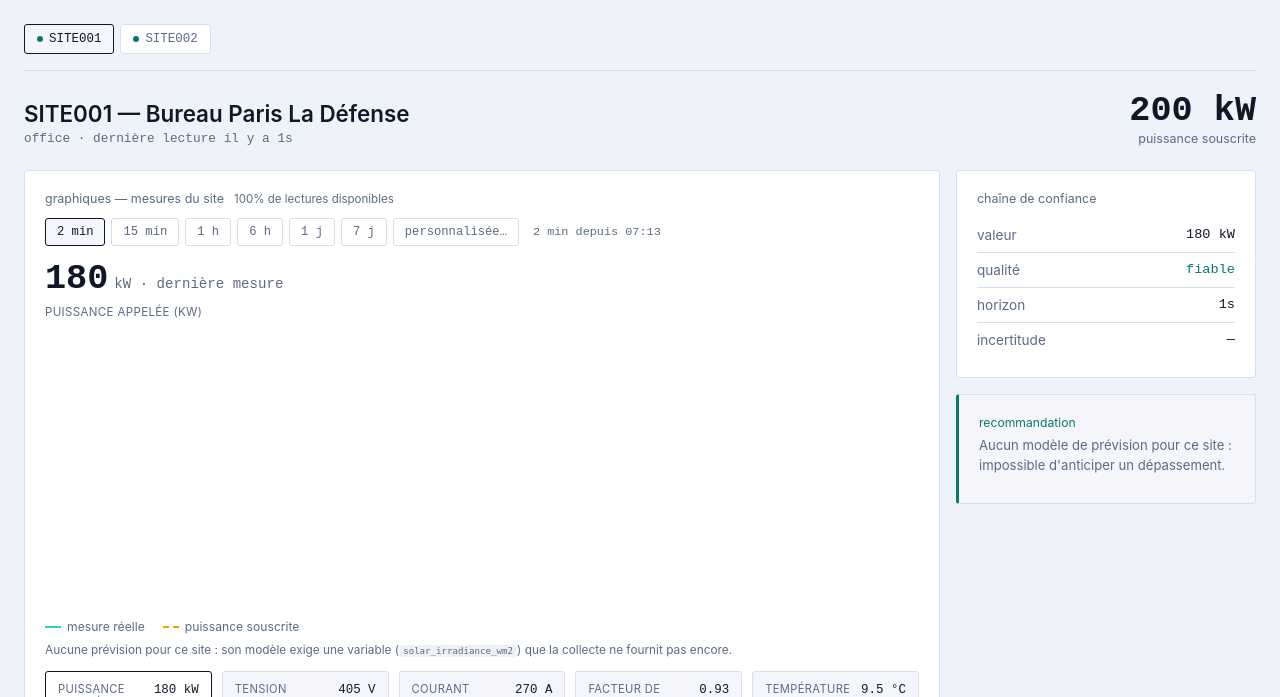
DashboardView › compte la période dans l'unité choisie à côté du champ
Click the button "personnalisée…" at x=456, y=232, box [393, 218, 519, 246]
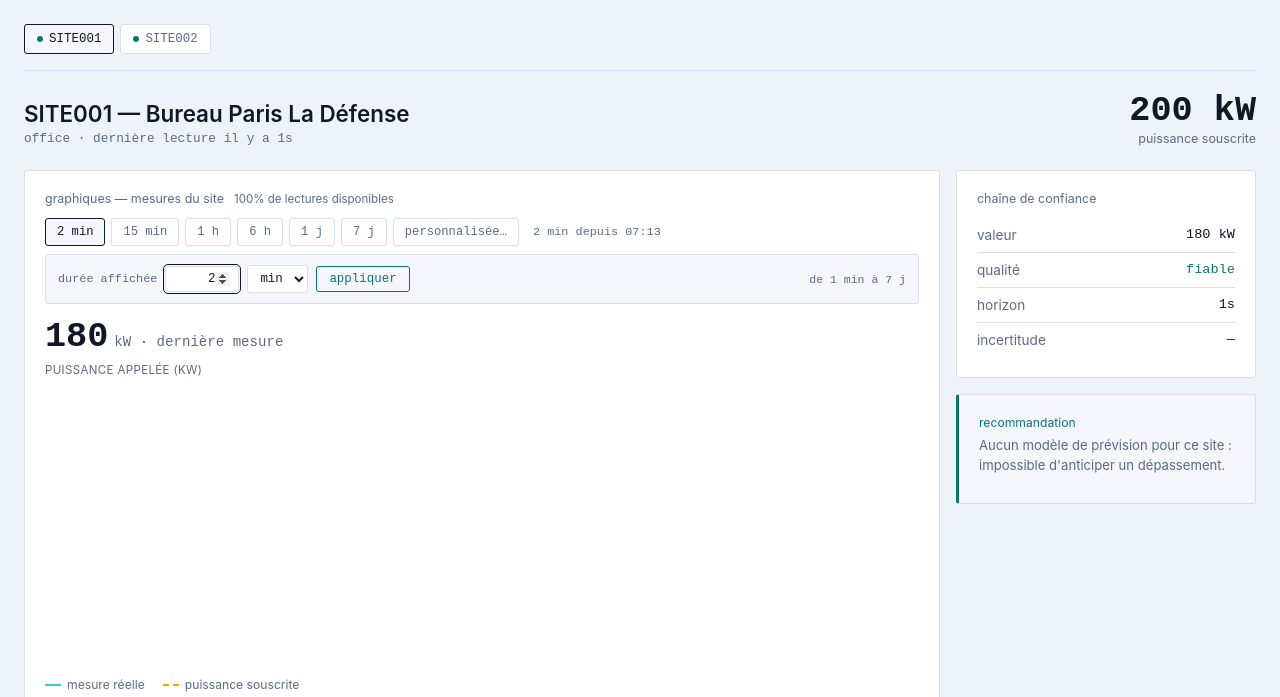
Replace the text in the number field with class "saisie-periode-duree" with "3" at x=202, y=279, box [165, 266, 239, 292]
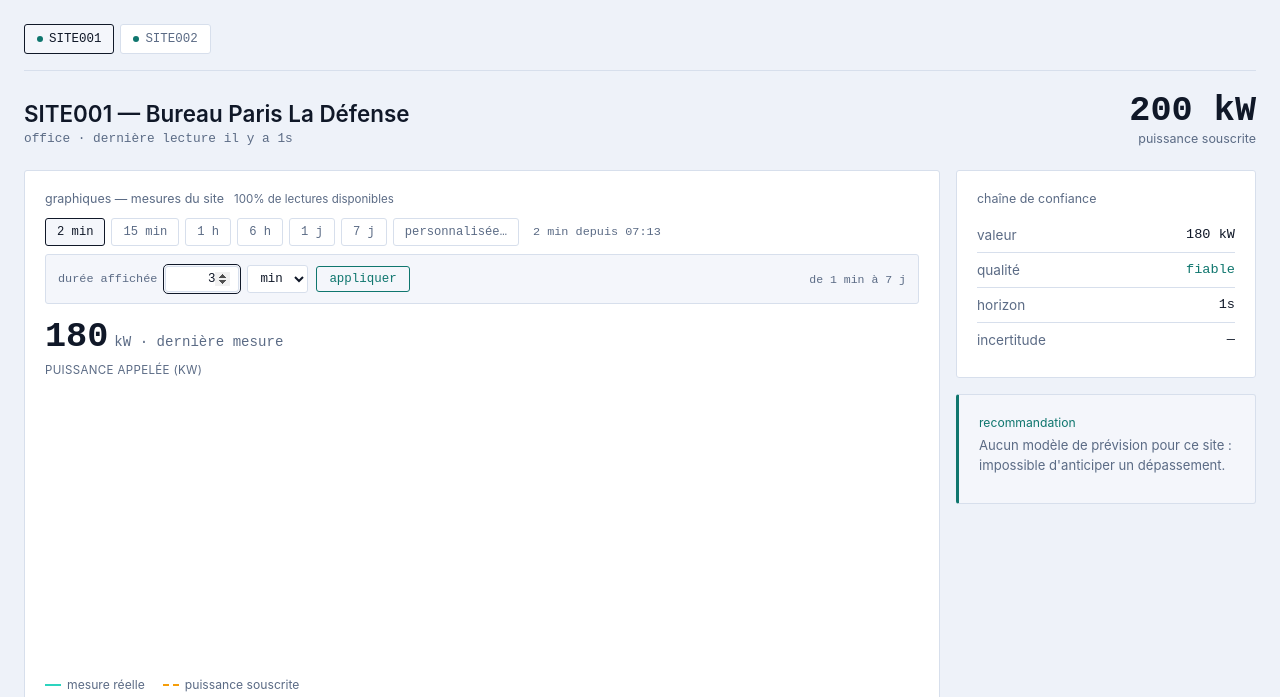
Select "h" in the dropdown with class "saisie-periode-unite" at x=278, y=279, box [247, 265, 308, 293]
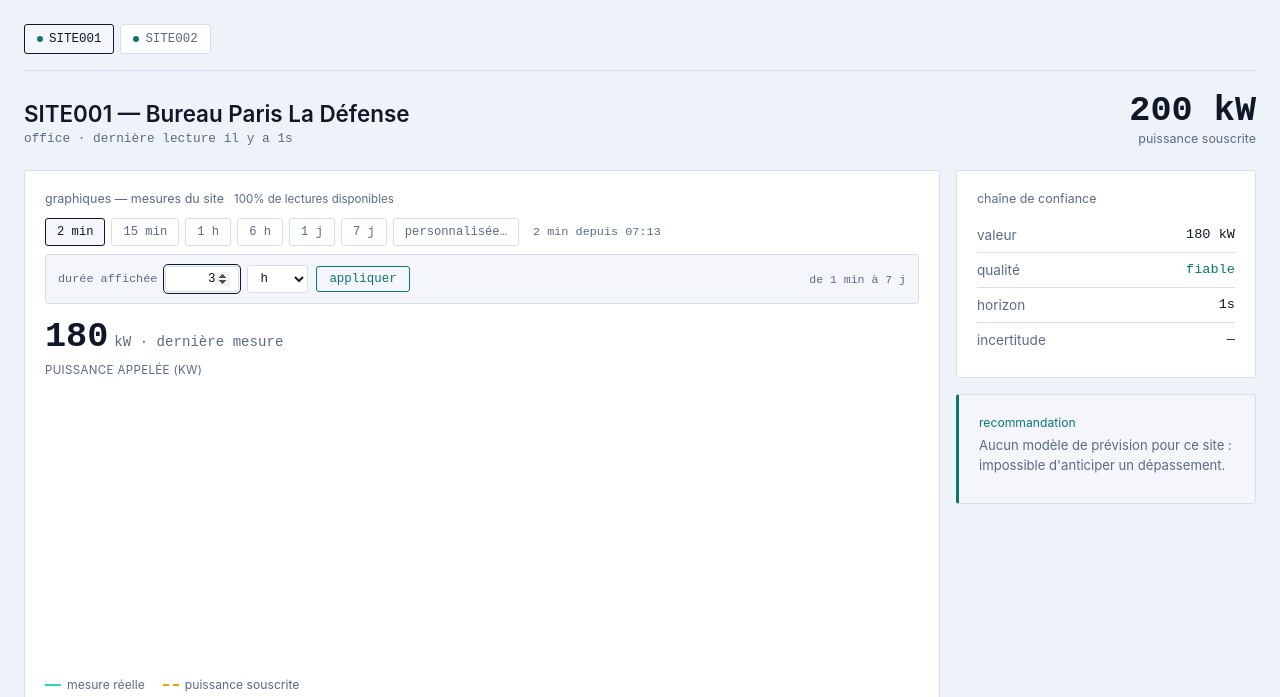
Submit the form with class "saisie-periode", box [45, 254, 919, 304]
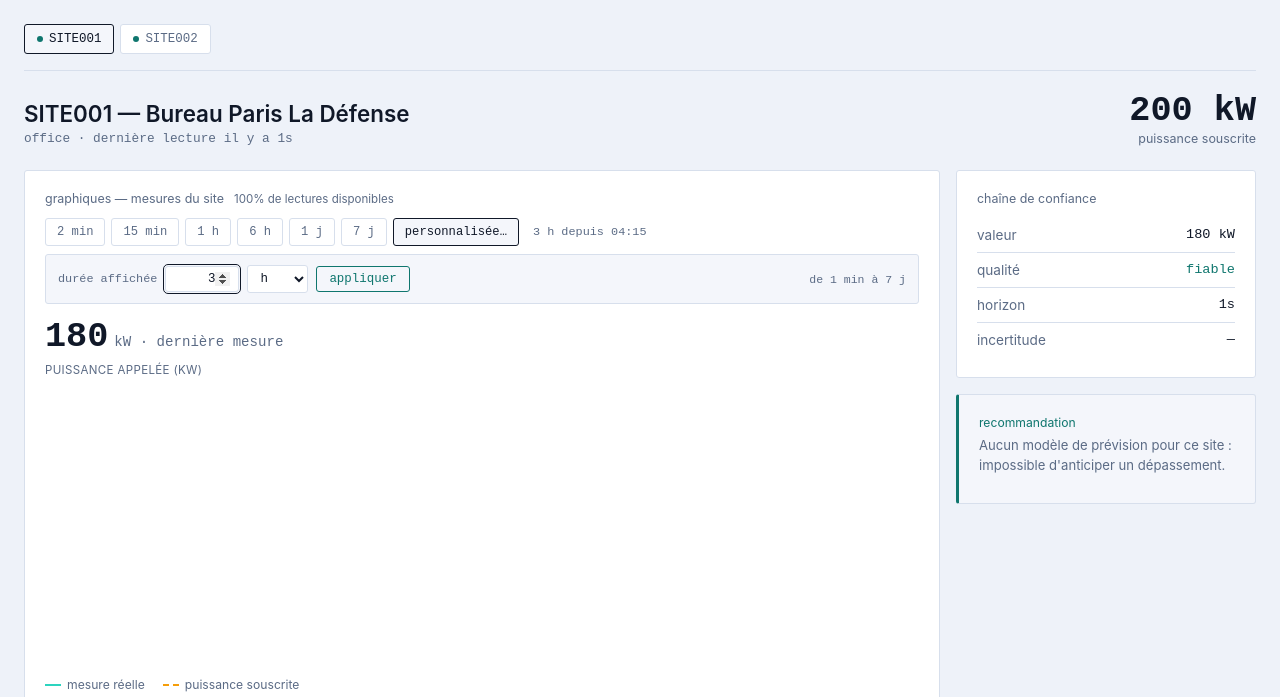
Expected: the text with class "resume-periode" shows "3 h", [533, 225, 647, 239]
